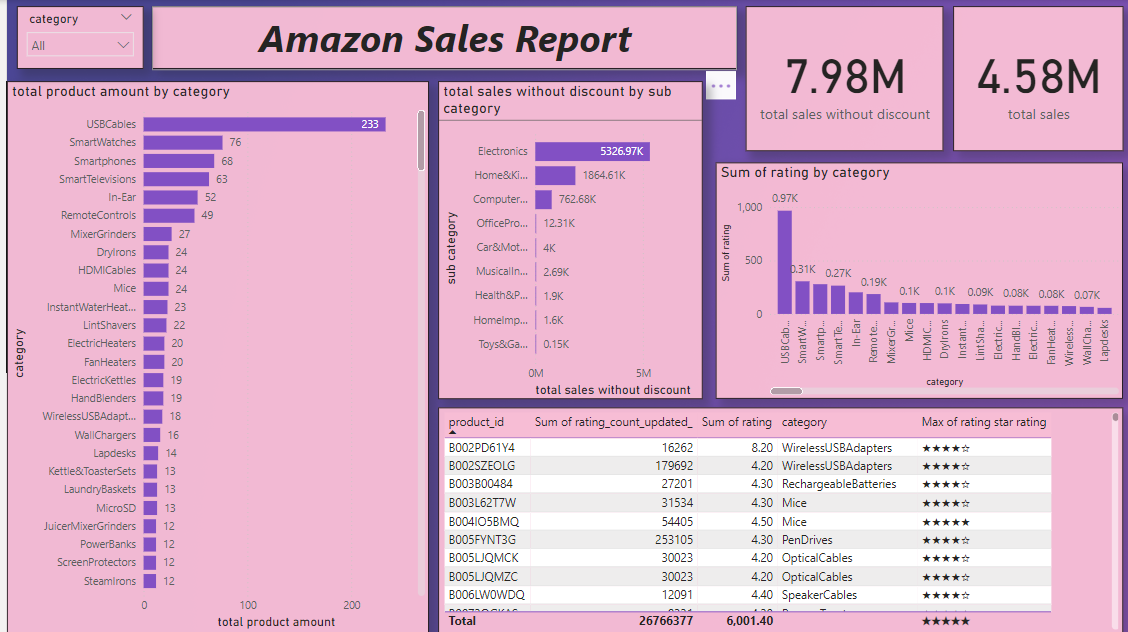

What the dashboard file says about the page in this screenshot:
{"tool":"powerbi","page":{"name":"Page 1","canvas":[1280,720],"ordinal":0},"visuals":[{"type":"textbox","box":[164.7,7.8,665.4,71.3],"z":0},{"type":"clusteredBarChart","fields":{"Category":["amazon.category"],"Y":["amazon.total product amount"]},"box":[0,92.1,479.9,627.8],"z":1000},{"type":"clusteredBarChart","fields":{"Category":["amazon.sub category","amazon.category"],"Y":["amazon.total sales"]},"box":[490.3,92.1,300.9,361.9],"z":2000},{"type":"slicer","fields":{"Values":["amazon.category"]},"box":[11.7,7.8,144,71.3],"z":2001},{"type":"card","fields":{"Values":["amazon.total sales"]},"box":[840.5,7.8,224.4,164.7],"z":2002},{"type":"card","fields":{"Values":["amazon.total sales(discount price)"]},"box":[1076.6,7.8,193.3,164.7],"z":2003},{"type":"columnChart","fields":{"Category":["amazon.category"],"Y":["Sum(amazon.rating)"]},"box":[806.8,185.5,463.1,268.5],"z":2004},{"type":"tableEx","fields":{"Values":["amazon.product_id","Sum(amazon.rating_count_updated_)","Sum(amazon.rating)","amazon.category","amazon.Max of rating star rating"]},"box":[490.3,463.1,779.6,256.8],"z":2005}]}

Visuals, with their boxes in screenshot pixels (x1, y1, x2, y2), scaled from the page's 1280x720 canvas onto the 1128x632 screenshot:
textbox: region(145, 7, 732, 69)
clusteredBarChart - amazon.category x amazon.total product amount: region(0, 81, 423, 631)
clusteredBarChart - amazon.sub category x amazon.category: region(432, 81, 697, 399)
slicer - amazon.category: region(10, 7, 137, 69)
card - amazon.total sales: region(741, 7, 938, 151)
card - amazon.total sales(discount price): region(949, 7, 1119, 151)
columnChart - amazon.category x Sum(amazon.rating): region(711, 163, 1119, 399)
tableEx - amazon.product_id x Sum(amazon.rating_count_updated_): region(432, 406, 1119, 631)
